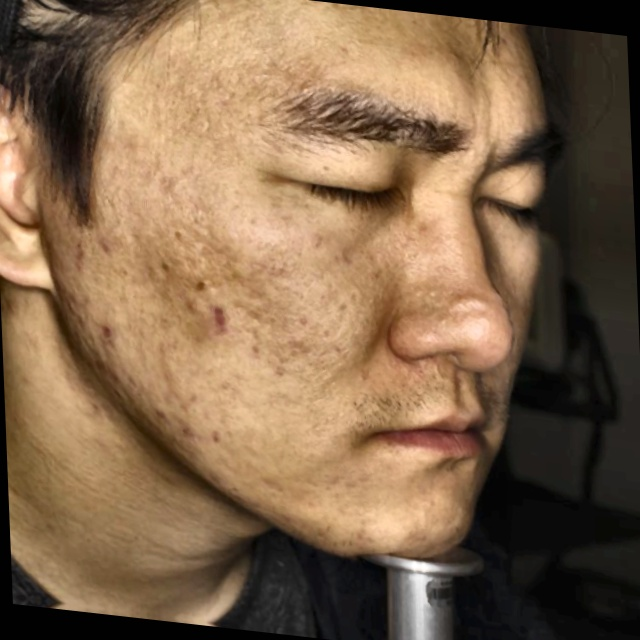comedone: (205, 299, 237, 334), (93, 312, 116, 344), (146, 403, 173, 426)
